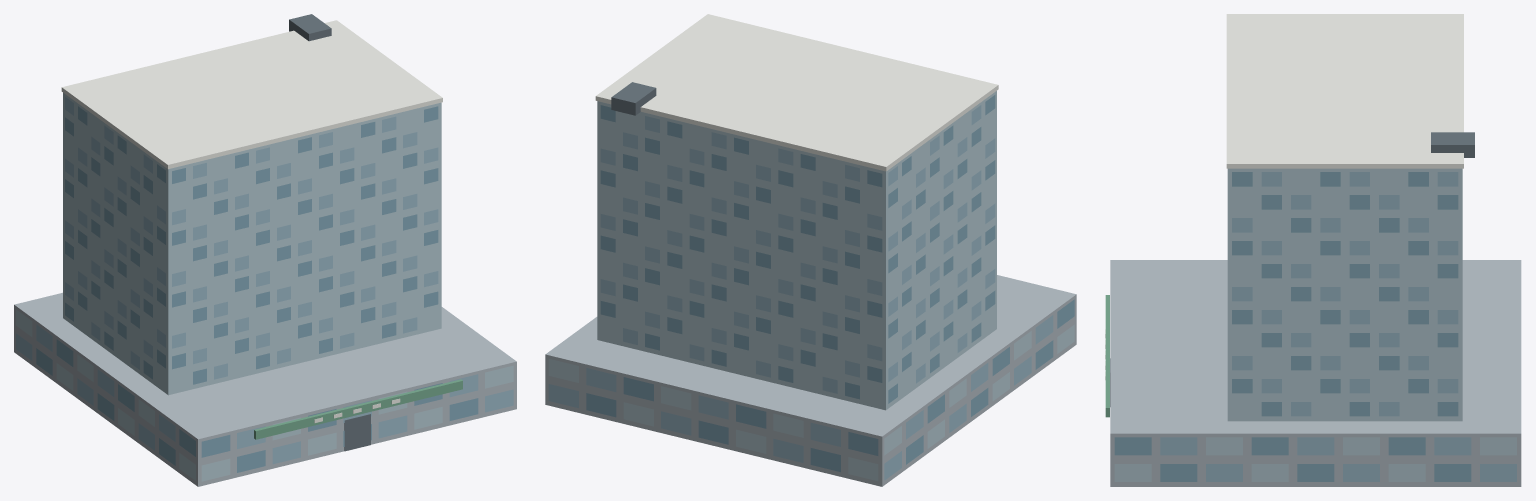
The model's file is sky-building-2.glb.
The picture shows the model from 3 angles, left to right: view 1: azimuth 30°, elevation 25°; view 2: azimuth 150°, elevation 25°; view 3: azimuth 270°, elevation 25°; orthographic projection. The views are drawn at different scales.
Size of the model in its own units: 14.02 by 12 by 14.18.
